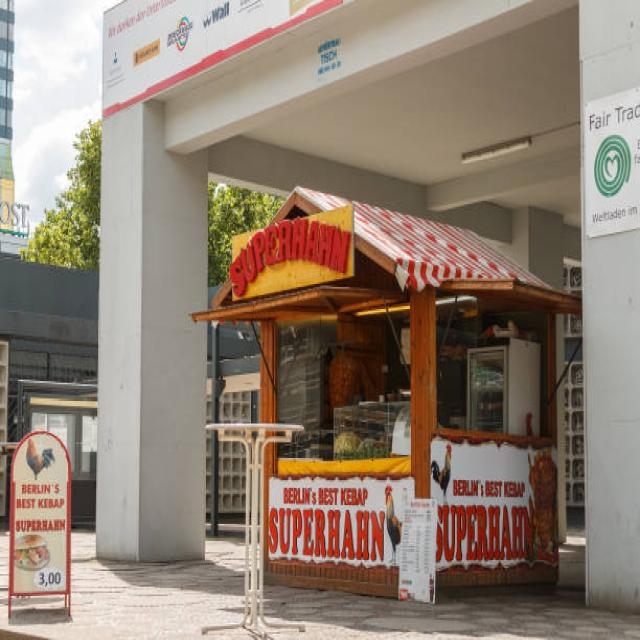Emperan: (186, 179, 596, 615)
